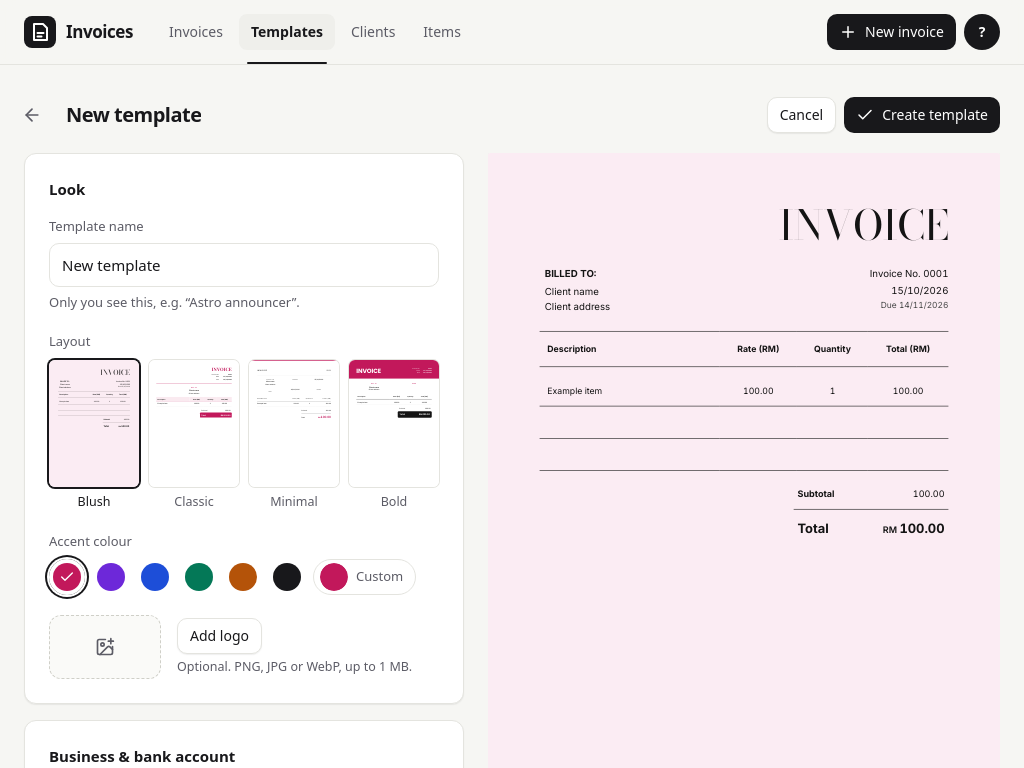
Scenario: new template › says so when the template could not be saved
The image size is (1024, 768).
Click the button "Create template".
click(922, 115)  # box top-left (844, 97), bottom-right (1000, 133)
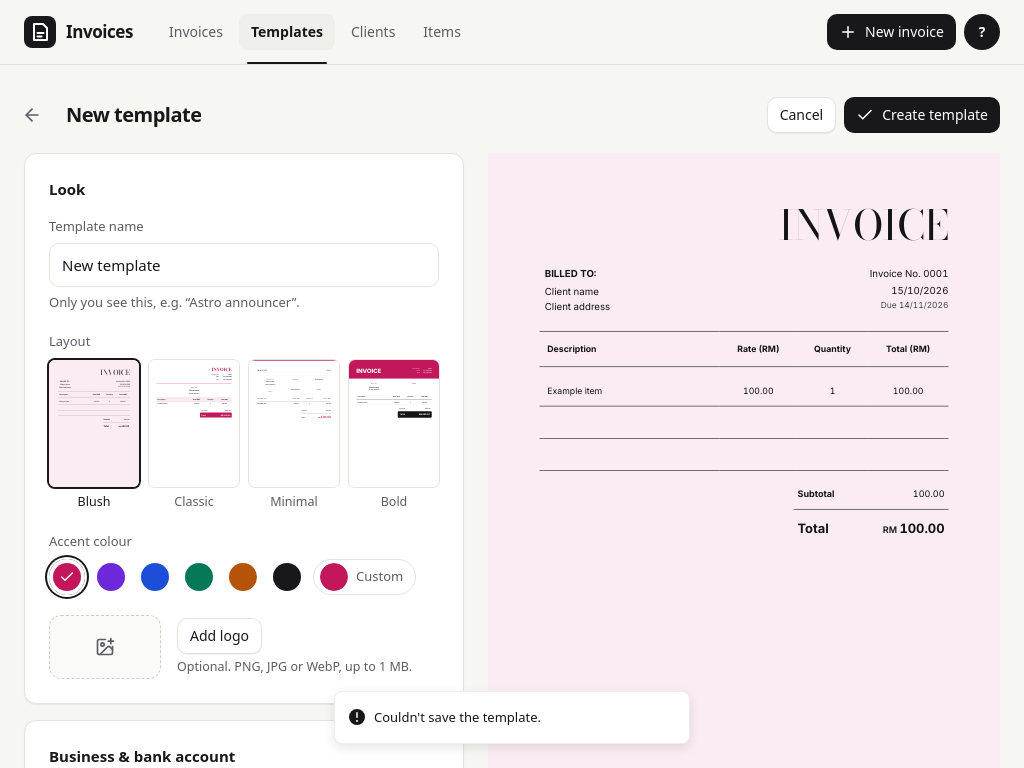
Expected: the text "Couldn't save the template." is shown, top-left (374, 708), bottom-right (541, 727)
